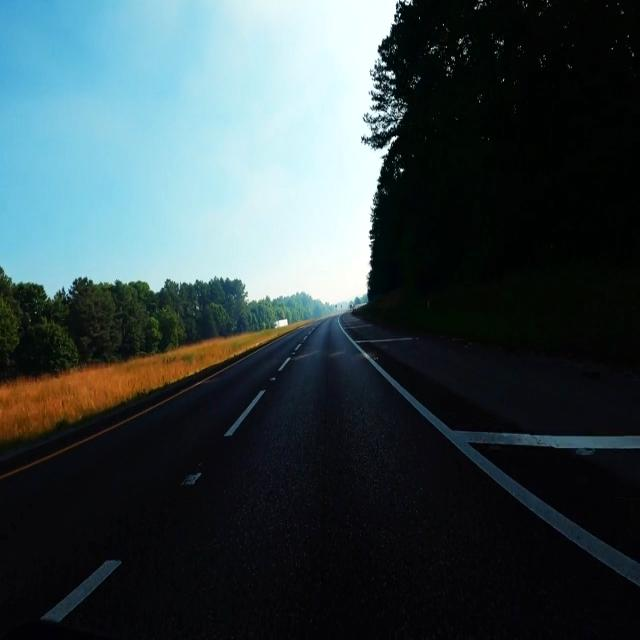lane: (362, 351, 640, 586), (42, 560, 121, 622), (225, 391, 265, 434)
road: (0, 317, 640, 637), (343, 315, 640, 434), (477, 445, 640, 564)
